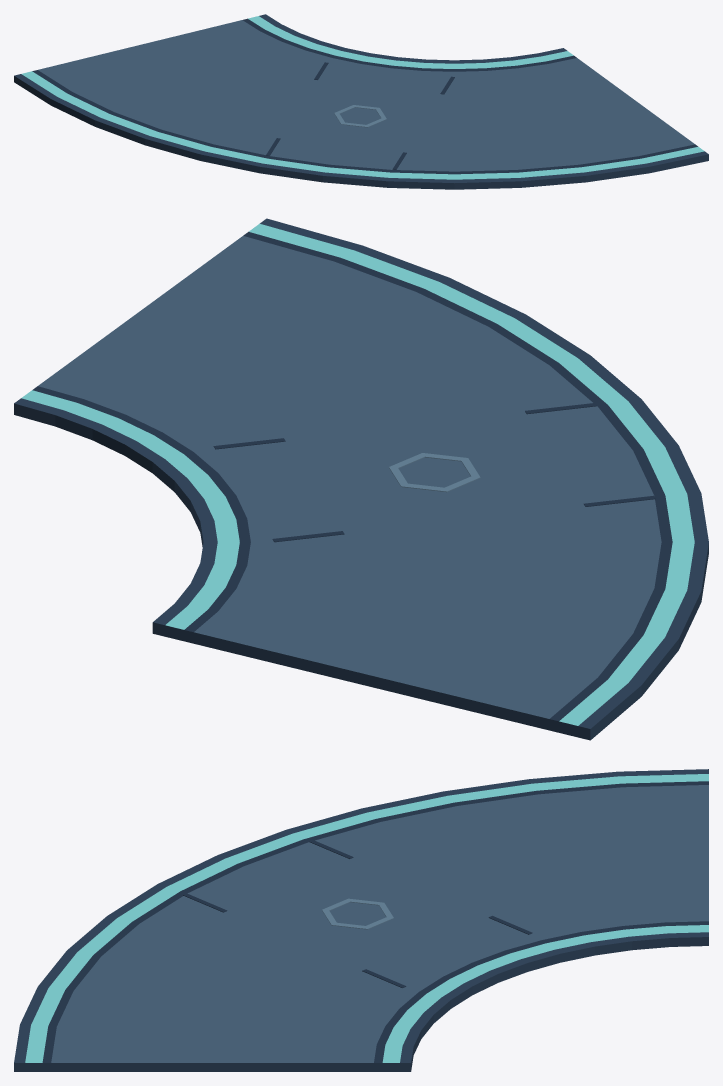
3 renders of one model, top to bottom at view 1: azimuth 30°, elevation 25°; view 2: azimuth 150°, elevation 25°; view 3: azimuth 270°, elevation 25°, orthographic. The views are drawn at different scales.
Parts seen in each view (by area): view 1: campus_walk_bend; view 2: campus_walk_bend; view 3: campus_walk_bend.
Boxes of the visible parts, x1,y1,x2,y2 form: campus_walk_bend: [14, 14, 708, 189]; campus_walk_bend: [14, 218, 708, 740]; campus_walk_bend: [14, 769, 708, 1071].
Bounding box in the file's own units: 5.6 × 0.086 × 5.6.
1 material, 1 textured.
